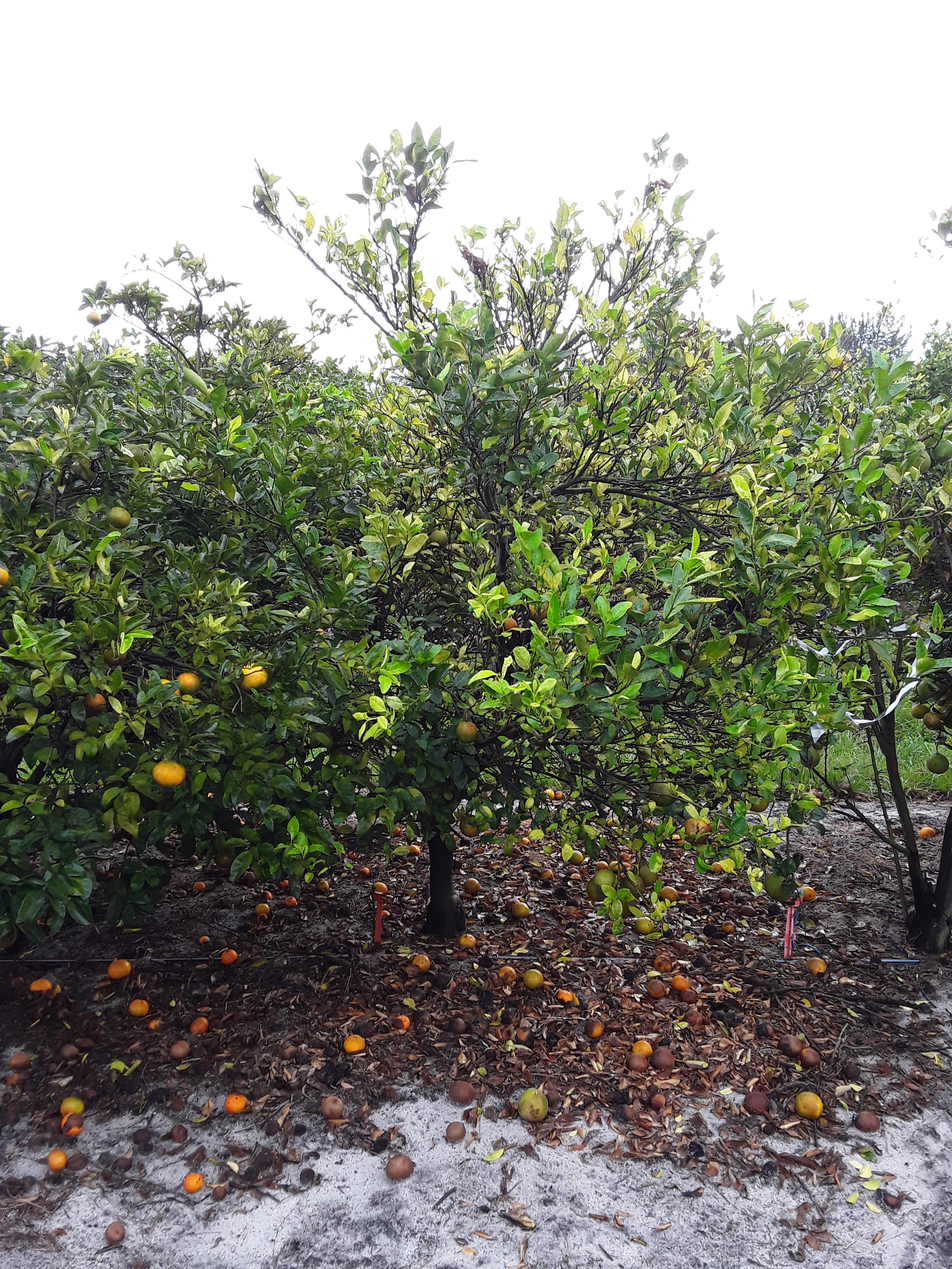fruit_on_ground: (152, 756, 184, 789), (644, 779, 680, 807), (605, 890, 639, 919), (764, 869, 792, 902), (687, 815, 714, 846), (240, 660, 266, 691), (154, 677, 181, 704), (98, 644, 129, 666), (747, 785, 771, 813), (0, 914, 19, 949), (620, 593, 651, 614), (174, 669, 198, 696), (634, 860, 658, 886), (622, 874, 647, 898), (593, 870, 619, 893), (926, 752, 951, 774), (585, 880, 609, 902), (123, 442, 145, 465), (459, 813, 480, 837), (457, 722, 476, 747), (87, 691, 107, 714), (111, 507, 130, 530), (679, 603, 703, 621), (526, 600, 551, 617), (215, 851, 238, 869), (802, 748, 821, 767), (430, 529, 450, 547), (0, 565, 16, 587), (939, 701, 952, 728), (922, 710, 940, 729), (501, 616, 519, 633), (913, 702, 931, 719), (943, 521, 952, 542)
fruit_on_tree: (795, 1086, 828, 1122), (385, 1148, 416, 1185), (517, 1086, 548, 1122), (317, 1092, 345, 1126), (322, 1101, 350, 1134), (743, 1089, 770, 1116), (855, 1110, 879, 1140), (776, 1032, 801, 1059), (450, 1079, 474, 1106), (799, 1043, 823, 1069), (59, 1096, 82, 1123), (107, 1224, 130, 1251), (643, 975, 666, 1001), (658, 1044, 681, 1070), (522, 966, 545, 991), (46, 1147, 69, 1171), (222, 1092, 244, 1117), (515, 1024, 536, 1050), (24, 979, 58, 995), (626, 1054, 650, 1076), (343, 1032, 364, 1057), (448, 1120, 471, 1142), (512, 899, 533, 923), (635, 1038, 656, 1062), (182, 1175, 203, 1199), (653, 951, 674, 974), (62, 1111, 82, 1135), (634, 914, 654, 937), (63, 1152, 87, 1171), (190, 1015, 208, 1040), (110, 959, 130, 981), (671, 972, 691, 994), (658, 886, 680, 905), (59, 1044, 85, 1060), (296, 1168, 320, 1185), (458, 932, 478, 952), (128, 997, 147, 1018), (170, 1038, 189, 1059), (462, 876, 481, 896), (843, 1064, 863, 1083), (755, 1021, 777, 1038), (168, 1123, 187, 1142), (411, 951, 429, 971), (806, 956, 824, 976), (500, 965, 518, 985), (416, 1009, 436, 1027), (368, 1139, 392, 1154), (799, 881, 816, 902), (684, 1010, 705, 1027), (451, 1017, 468, 1038), (590, 1024, 607, 1045), (9, 1051, 32, 1066), (709, 1008, 730, 1024), (652, 1089, 667, 1111), (434, 974, 453, 991), (5, 1071, 24, 1088), (372, 880, 391, 896), (718, 887, 737, 903), (719, 926, 735, 945), (220, 948, 236, 967), (500, 1008, 516, 1027), (132, 1129, 151, 1145), (186, 988, 206, 1003), (113, 1156, 133, 1171), (480, 989, 497, 1006), (617, 1104, 634, 1121), (569, 847, 585, 865), (740, 901, 756, 919), (680, 988, 698, 1004), (725, 1011, 743, 1027), (147, 1017, 163, 1035), (108, 868, 124, 885), (918, 824, 933, 842), (559, 991, 574, 1009), (120, 939, 139, 953), (208, 989, 228, 1002), (317, 878, 334, 893), (767, 899, 782, 916), (264, 1117, 279, 1134), (210, 970, 225, 986), (401, 1018, 415, 1035), (518, 834, 533, 849), (213, 1186, 228, 1201), (216, 895, 233, 908), (412, 986, 425, 1003), (690, 956, 710, 967), (105, 828, 119, 843), (568, 895, 583, 909), (11, 977, 26, 991), (192, 879, 205, 895), (724, 921, 738, 935), (480, 953, 494, 967), (257, 903, 272, 916), (704, 921, 719, 934), (710, 862, 727, 873), (233, 1011, 250, 1022), (414, 836, 428, 849), (359, 865, 373, 878), (540, 868, 553, 882), (489, 974, 502, 988), (507, 897, 519, 912), (644, 1080, 659, 1092), (574, 932, 590, 943), (246, 870, 258, 884), (278, 878, 293, 889), (624, 967, 635, 982), (280, 1047, 298, 1056), (101, 1169, 117, 1179), (408, 844, 420, 857), (531, 868, 544, 880), (204, 878, 216, 891), (172, 1099, 184, 1112), (543, 788, 557, 799), (256, 912, 270, 923), (195, 935, 206, 949), (389, 825, 401, 837), (668, 834, 684, 843), (284, 897, 300, 906), (595, 859, 608, 870), (519, 862, 536, 870), (231, 983, 242, 995), (608, 816, 622, 825), (555, 789, 566, 800), (254, 821, 265, 832), (556, 888, 568, 898), (262, 891, 274, 901), (378, 908, 390, 918), (609, 861, 622, 870), (96, 865, 107, 875), (84, 1088, 95, 1098), (189, 854, 201, 863), (305, 901, 317, 910), (129, 847, 138, 858), (620, 862, 632, 870), (347, 851, 356, 861), (242, 920, 252, 929), (568, 867, 580, 874), (217, 877, 227, 885), (620, 851, 630, 858), (644, 821, 654, 827), (574, 872, 582, 879), (239, 819, 244, 825)
